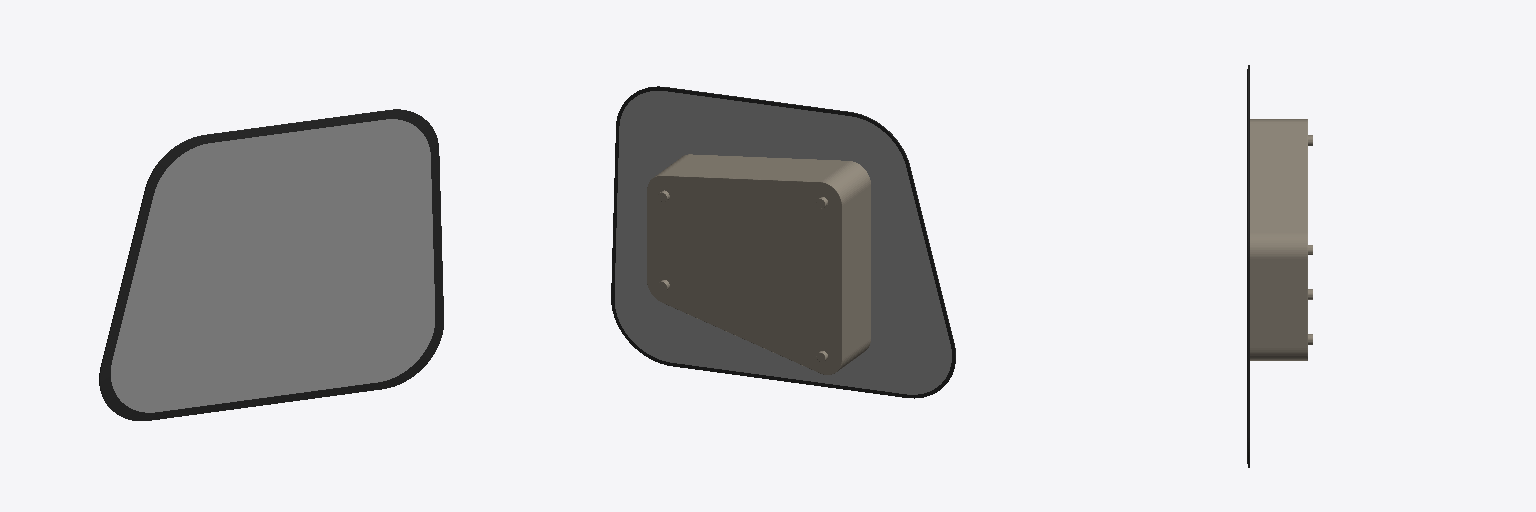
File: Molteni_Mayfair_Table_V2_mat(2).obj
The picture shows the model from 3 angles: view 1: azimuth 30°, elevation 25°; view 2: azimuth 150°, elevation 25°; view 3: azimuth 270°, elevation 25°; orthographic projection.
Parts seen in each view (by area): view 1: Molteni_Mayfair_Table_V2_mat2; view 2: Molteni_Mayfair_Table_V2_mat2; view 3: Molteni_Mayfair_Table_V2_mat2.
Boxes of the visible parts, <box> form: Molteni_Mayfair_Table_V2_mat2: <box>99,109,443,420</box>; Molteni_Mayfair_Table_V2_mat2: <box>611,86,955,398</box>; Molteni_Mayfair_Table_V2_mat2: <box>1247,65,1312,467</box>.
Size of the model in its own units: 150 by 124 by 25.